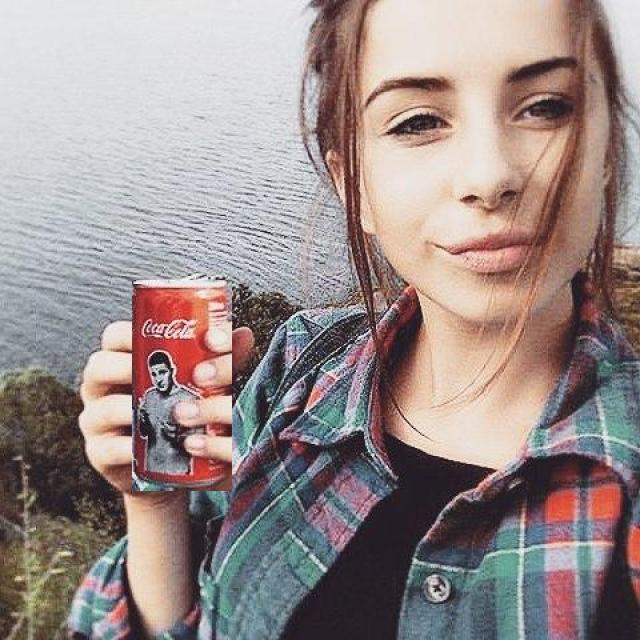coca-cola: (132, 280, 232, 491)
